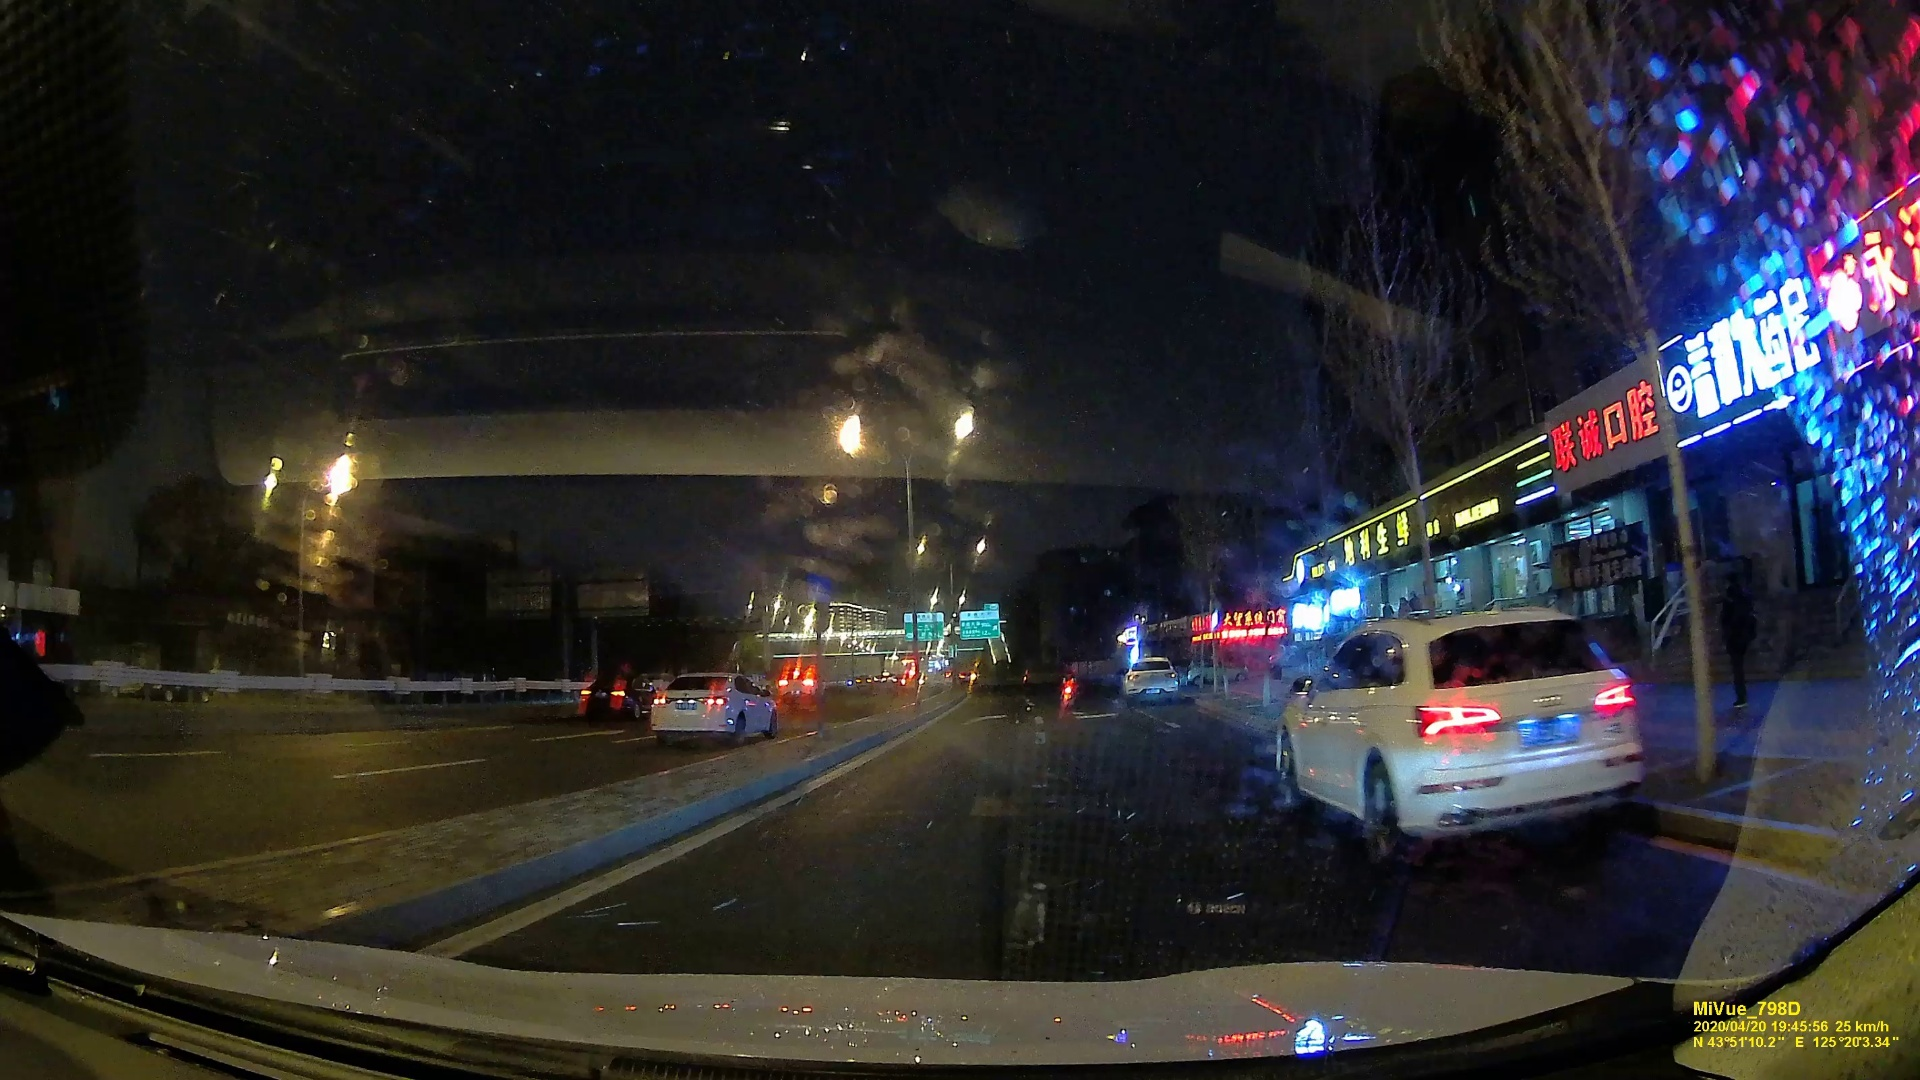person: (1715, 582, 1760, 710), (1059, 669, 1078, 694)
traffic_sign: (902, 613, 942, 638), (960, 611, 998, 636)
vehicle: (1281, 607, 1656, 853), (645, 673, 780, 747), (576, 671, 643, 720), (1121, 656, 1177, 700), (779, 666, 825, 704)
